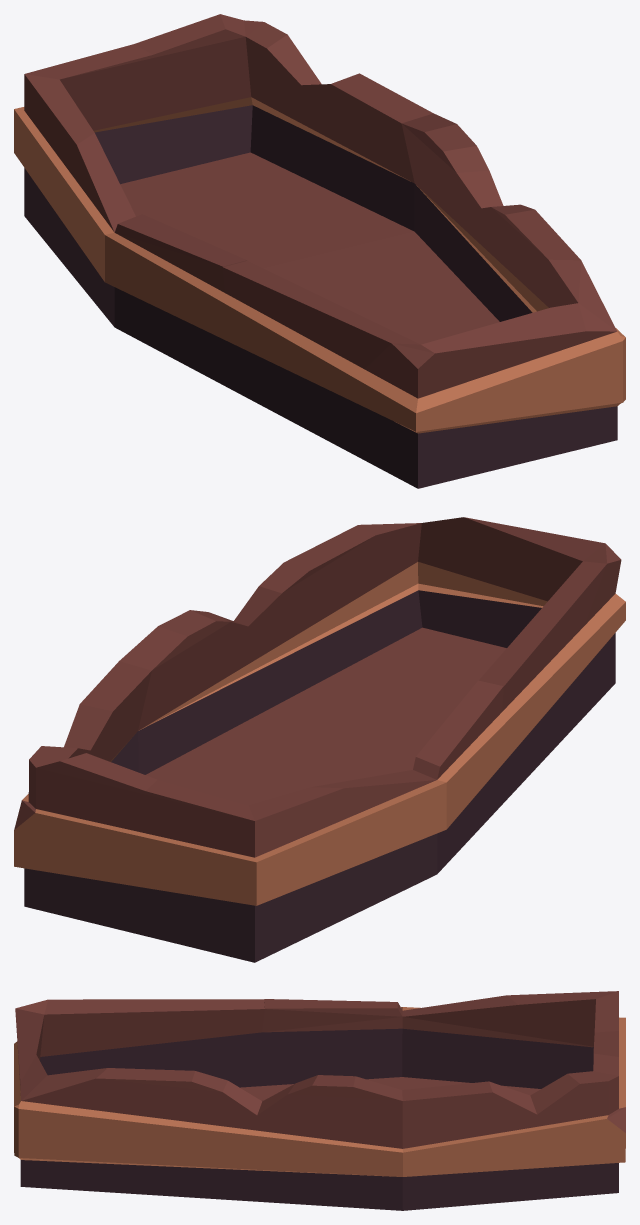
File: Casket 05.fbx
3 renders of one model, top to bottom at view 1: azimuth 30°, elevation 25°; view 2: azimuth 150°, elevation 25°; view 3: azimuth 270°, elevation 25°, orthographic. The views are drawn at different scales.
Visible parts, largest first — view 1: Casket 05; view 2: Casket 05; view 3: Casket 05.
Boxes of the visible parts, x1,y1,x2,y2 form: Casket 05: [14, 14, 625, 488]; Casket 05: [14, 517, 625, 962]; Casket 05: [14, 991, 625, 1210].
Size of the model in its own units: 137 by 58.91 by 267.
